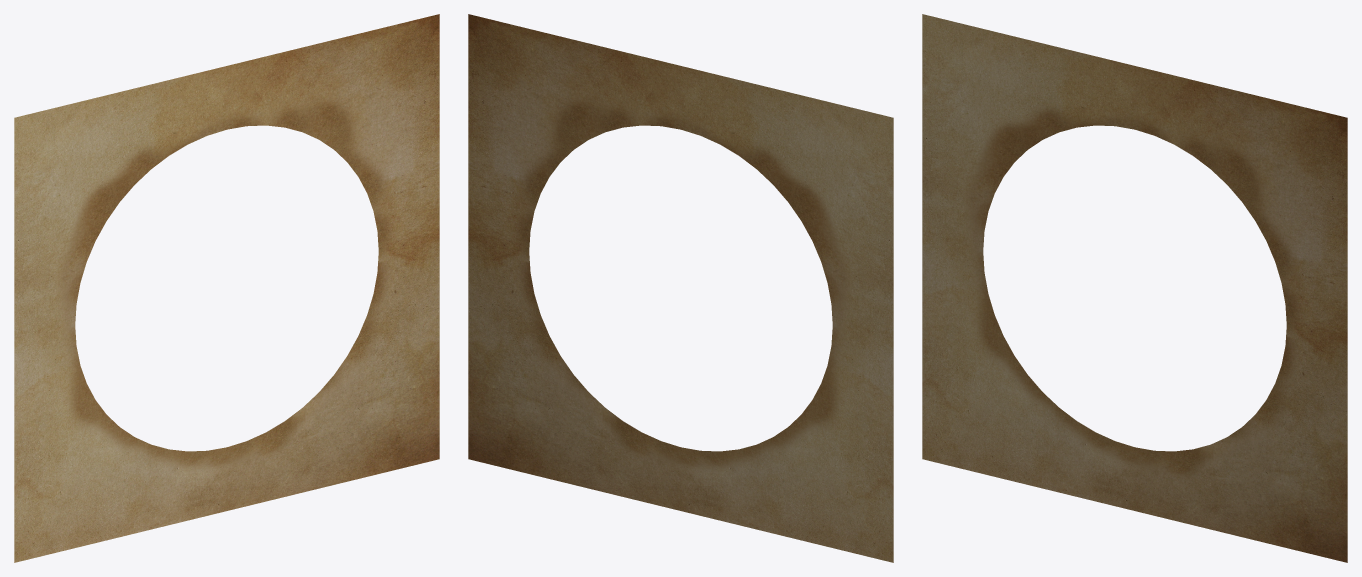
The model's file is frame.glb.
The picture shows the model from 3 angles, left to right: view 1: azimuth 30°, elevation 25°; view 2: azimuth 150°, elevation 25°; view 3: azimuth 330°, elevation 25°; orthographic projection.
Visible parts, largest first — view 1: Plane; view 2: Plane; view 3: Plane.
Boxes of the visible parts, x1=… form: Plane: x1=14, y1=14, x2=439, y2=562; Plane: x1=468, y1=14, x2=893, y2=562; Plane: x1=922, y1=14, x2=1347, y2=562.
Size of the model in its own units: 2 by 2 by 6.09e-16.
Materials: 1 (1 with a texture image).
